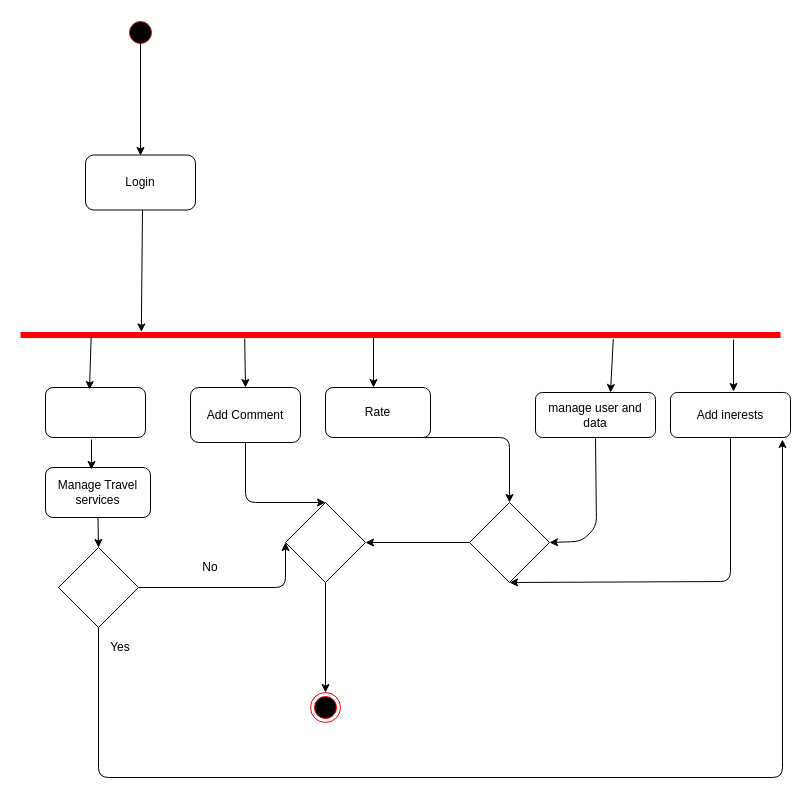
Image size: 808x803. Some labels were removed from this diagram. Here are the shapes that lost their labels. From the top down, the centre of each, then its label:
At (95,412): "Manage travel".
At (98,587): "Updating interests".
